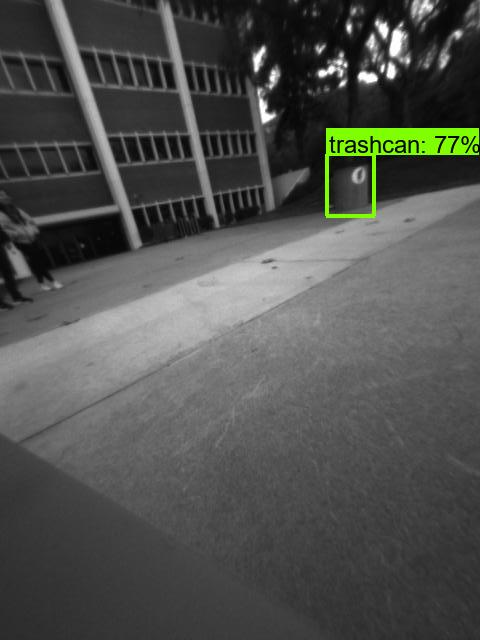trashcan: (331, 160, 371, 210)
